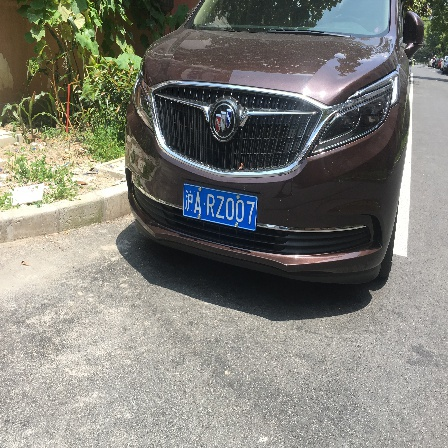plate: (175, 181, 262, 232)
